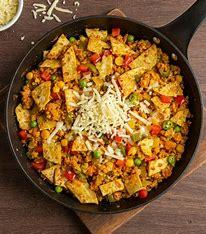Kottu: (15, 26, 206, 207)
